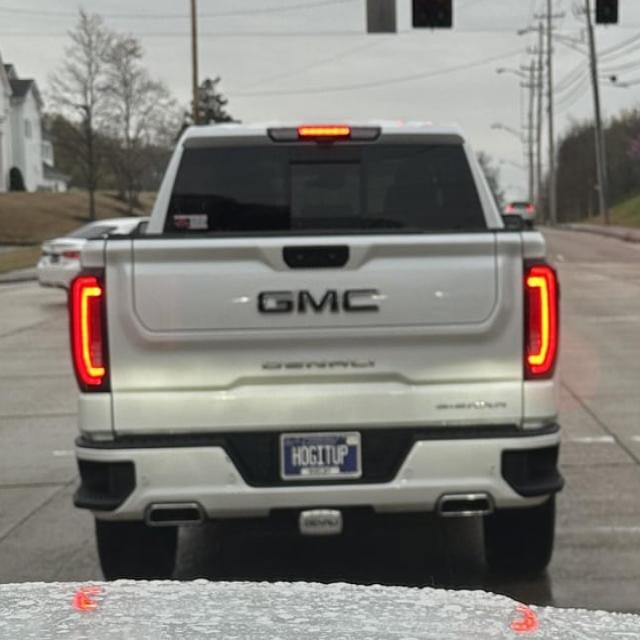LicensePlate: (279, 430, 364, 481)
